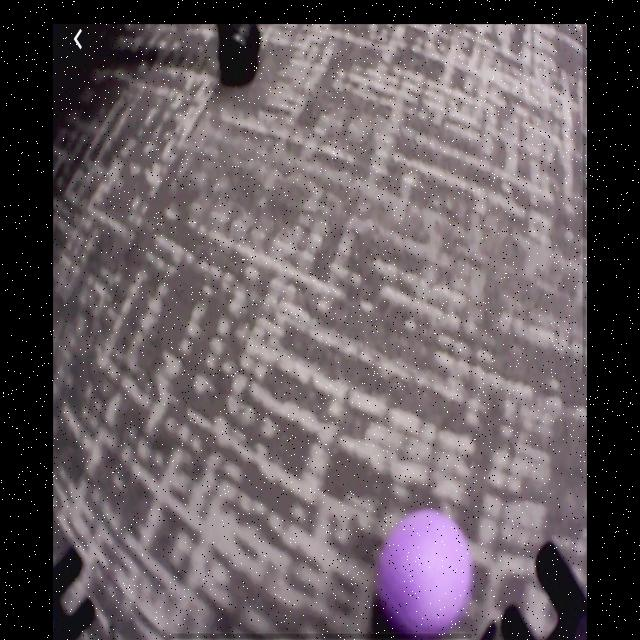ball: (378, 512, 476, 639)
